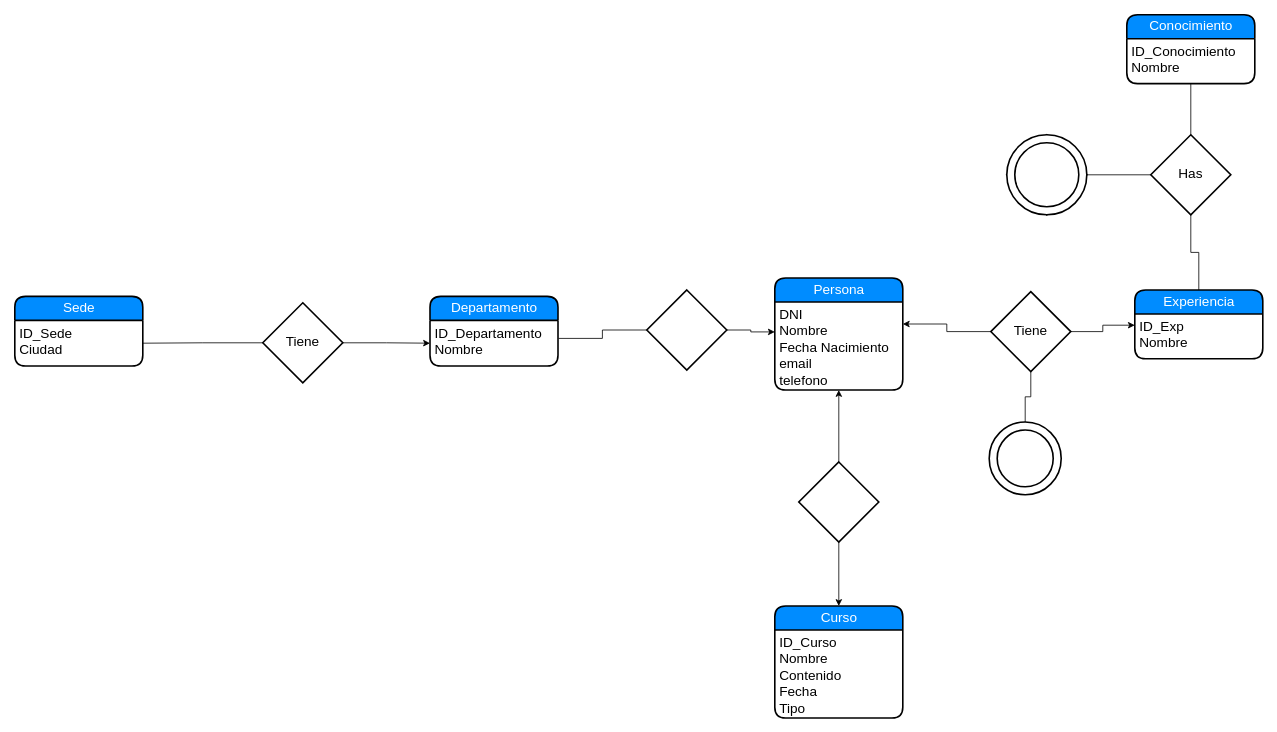
Image size: 1277x732. Some labels were removed from this diagram. The shapes that lost their labels are listed below. From the top down, each one's centre as x and y in pixels, then its label:
point 1046,174: Valoración
point 686,329: Trabaja
point 1025,458: Puesto
point 838,501: Cursa
